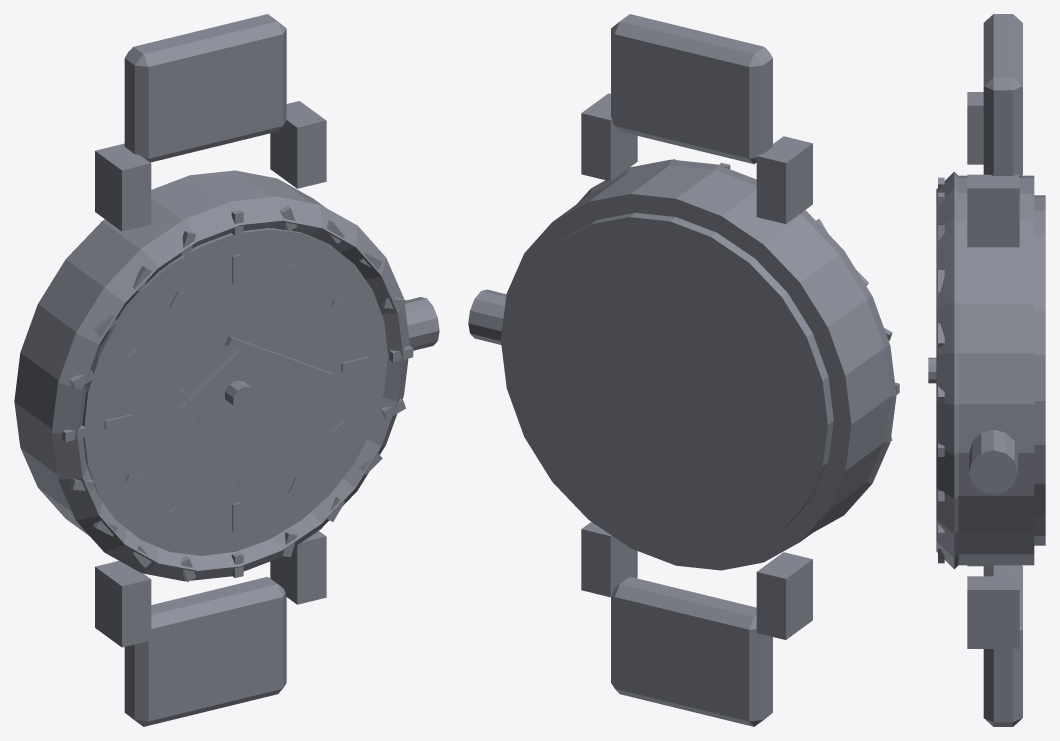
The model's file is rlj_royal.fbx.
The picture shows the model from 3 angles, left to right: view 1: azimuth 30°, elevation 25°; view 2: azimuth 150°, elevation 25°; view 3: azimuth 270°, elevation 25°; orthographic projection. The views are drawn at different scales.
Visible parts, largest first — view 1: Esfera__esmalte_negro, Caja__cuero_correa, Caja__metal_oro_pulido, Caja__metal_oro_cepillado, Manecillas__metal_oro_pulido, Esfera__gema_rubi; view 2: Caja__metal_oro_pulido, Caja__cuero_correa, Caja__metal_oro_cepillado; view 3: Caja__metal_oro_pulido, Caja__cuero_correa, Caja__metal_oro_cepillado, Manecillas__metal_oro_pulido.
Boxes of the visible parts, <box> form: Esfera__esmalte_negro: <box>82,228,387,555</box>; Caja__cuero_correa: <box>124,14,286,726</box>; Caja__metal_oro_pulido: <box>14,101,439,647</box>; Caja__metal_oro_cepillado: <box>52,196,413,581</box>; Manecillas__metal_oro_pulido: <box>177,336,334,418</box>; Esfera__gema_rubi: <box>104,254,368,531</box>; Caja__metal_oro_pulido: <box>468,93,890,639</box>; Caja__cuero_correa: <box>611,14,772,726</box>; Caja__metal_oro_cepillado: <box>577,159,899,532</box>; Caja__metal_oro_pulido: <box>958,92,1045,648</box>; Caja__cuero_correa: <box>983,14,1022,726</box>; Caja__metal_oro_cepillado: <box>936,171,958,569</box>; Manecillas__metal_oro_pulido: <box>928,357,936,383</box>.
Bounding box in the file's own units: 135 × 220 × 36.
